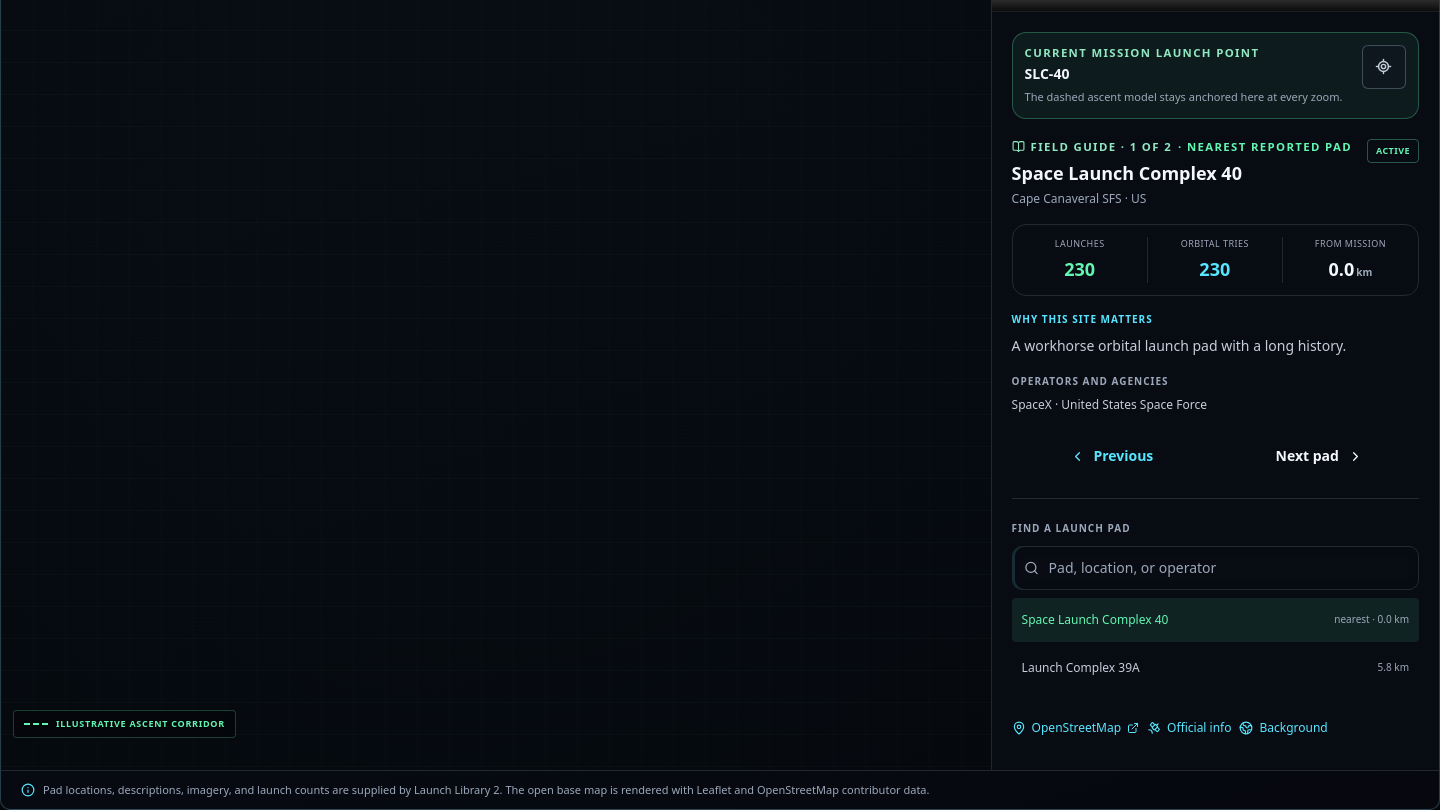
MissionTrajectory › loads a continuous open map and a progressively explorable field guide
(page scrolled)
Check: the heading "Space Launch Complex 40" is shown, box 1012,161 -> 1242,185
Check: the text "230" is shown 2 times, box 1064,257 -> 1095,281; 1199,257 -> 1230,281
Click the button with aria-label "Explore next nearby launch pad". click: (1319, 456)
box: 1219,434 -> 1419,478
(page scrolled)
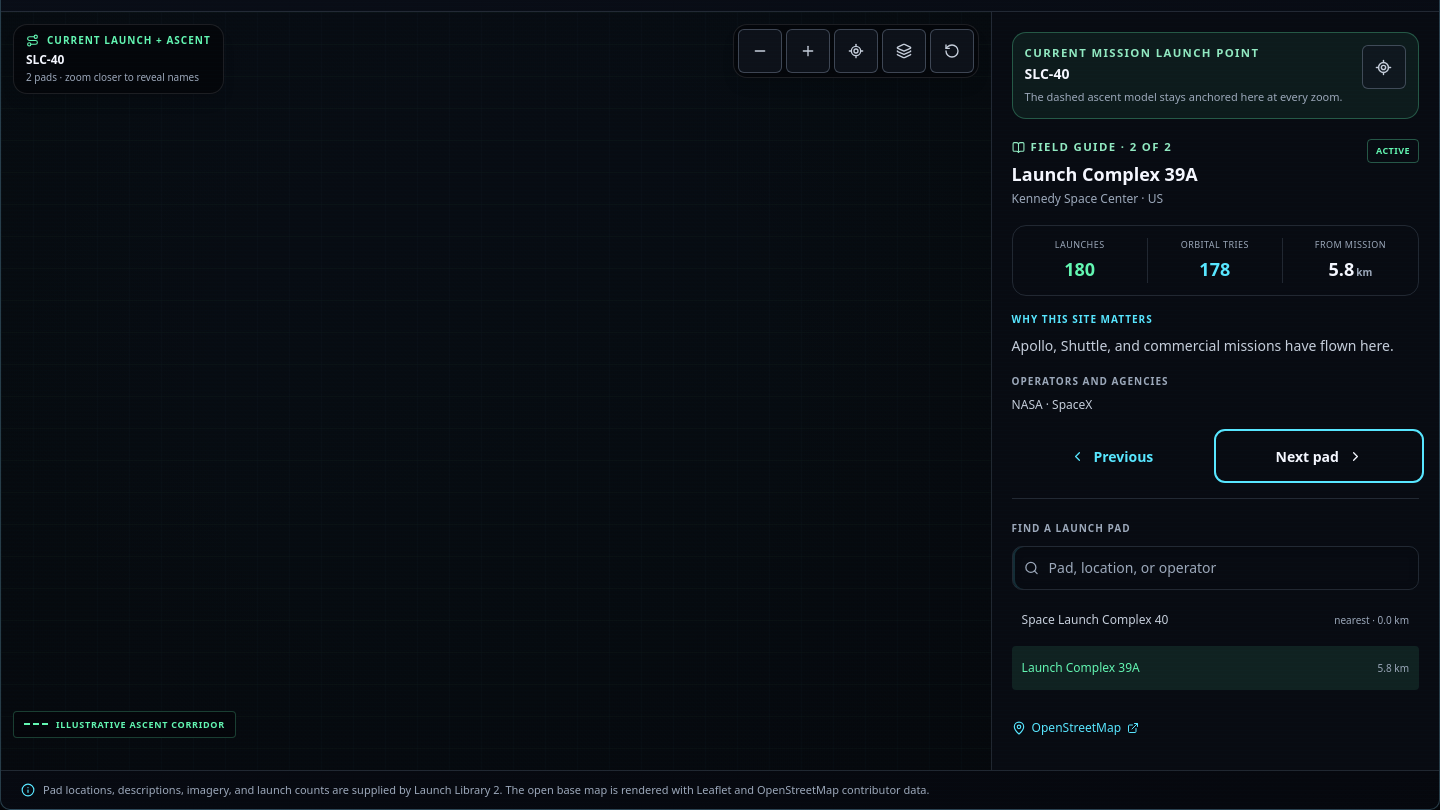
Check: the heading "Launch Complex 39A" is shown, box 1012,163 -> 1198,185
